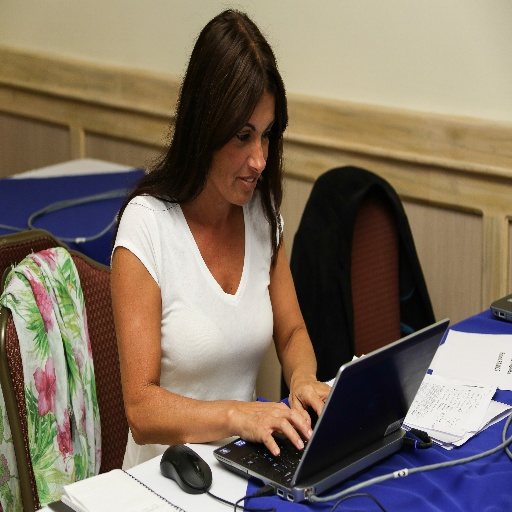hand: (234, 402, 312, 457), (286, 373, 329, 435)
